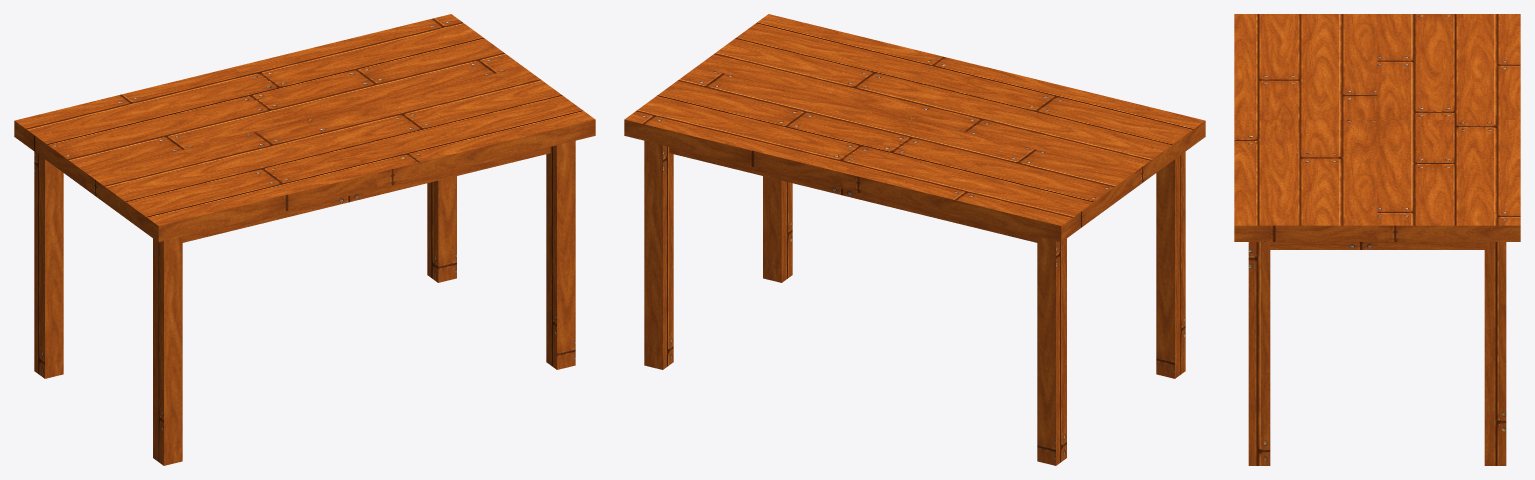
The model's file is Table.fbx.
3 renders of one model, left to right at view 1: azimuth 30°, elevation 25°; view 2: azimuth 150°, elevation 25°; view 3: azimuth 270°, elevation 25°, orthographic.
Visible parts, largest first — view 1: Table; view 2: Table; view 3: Table.
Boxes of the visible parts, x1=… form: Table: x1=14, y1=14, x2=595, y2=465; Table: x1=624, y1=14, x2=1205, y2=465; Table: x1=1234, y1=14, x2=1520, y2=465.
Bounding box in the file's own units: 1.4 × 0.76 × 0.8.
